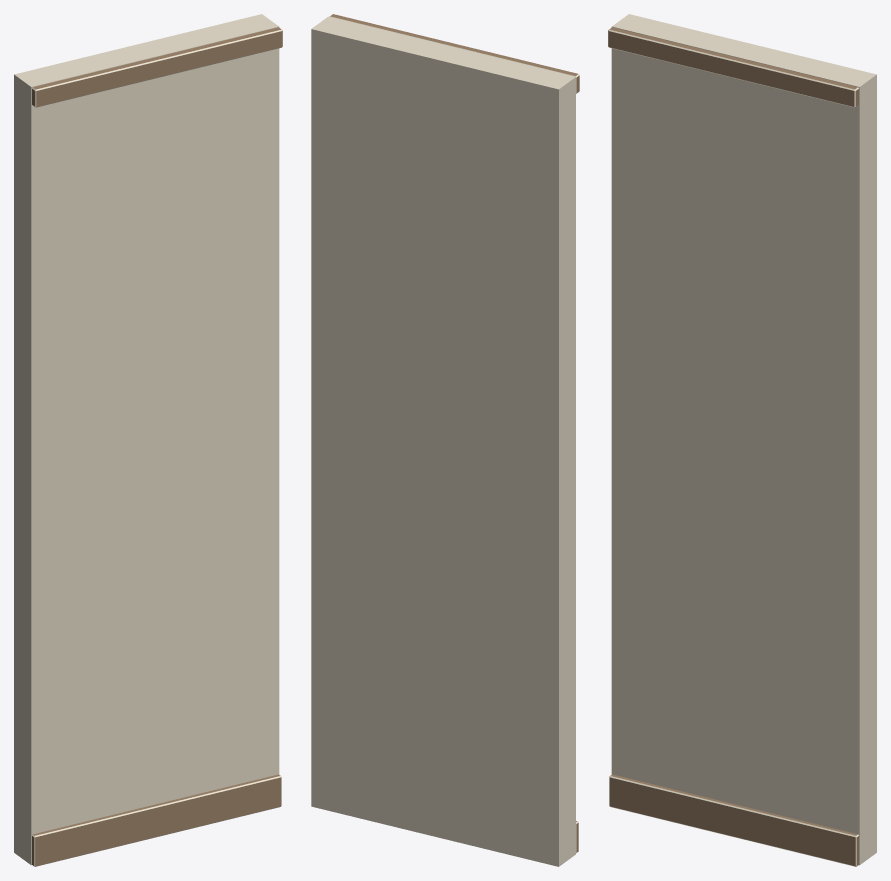
The model's file is muro_300.glb.
3 views of the same model, side by side, from view 1: azimuth 30°, elevation 25°; view 2: azimuth 150°, elevation 25°; view 3: azimuth 330°, elevation 25° (orthographic).
Parts seen in each view (by area): view 1: muro_300; view 2: muro_300; view 3: muro_300.
Part boxes in pixels (left/top/right/bottom): muro_300: left=14, top=14, right=282, bottom=866; muro_300: left=311, top=14, right=579, bottom=866; muro_300: left=608, top=14, right=876, bottom=866.
Size of the model in its own units: 1 by 3 by 0.15.
